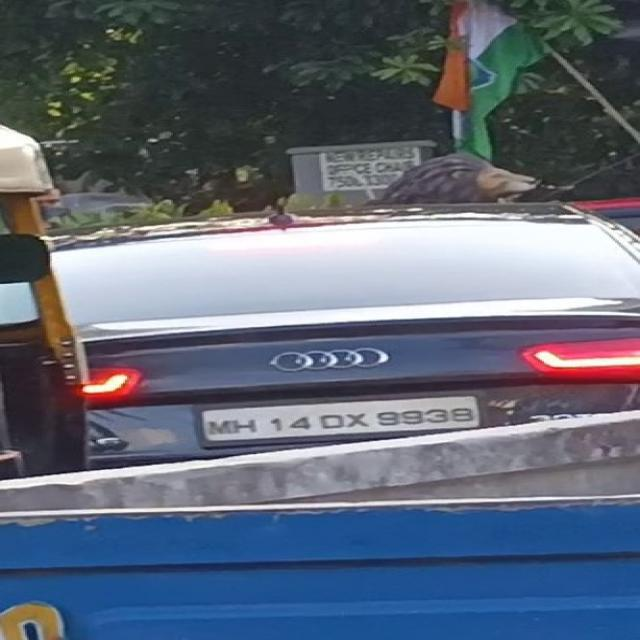Plate: (199, 396, 478, 440)
